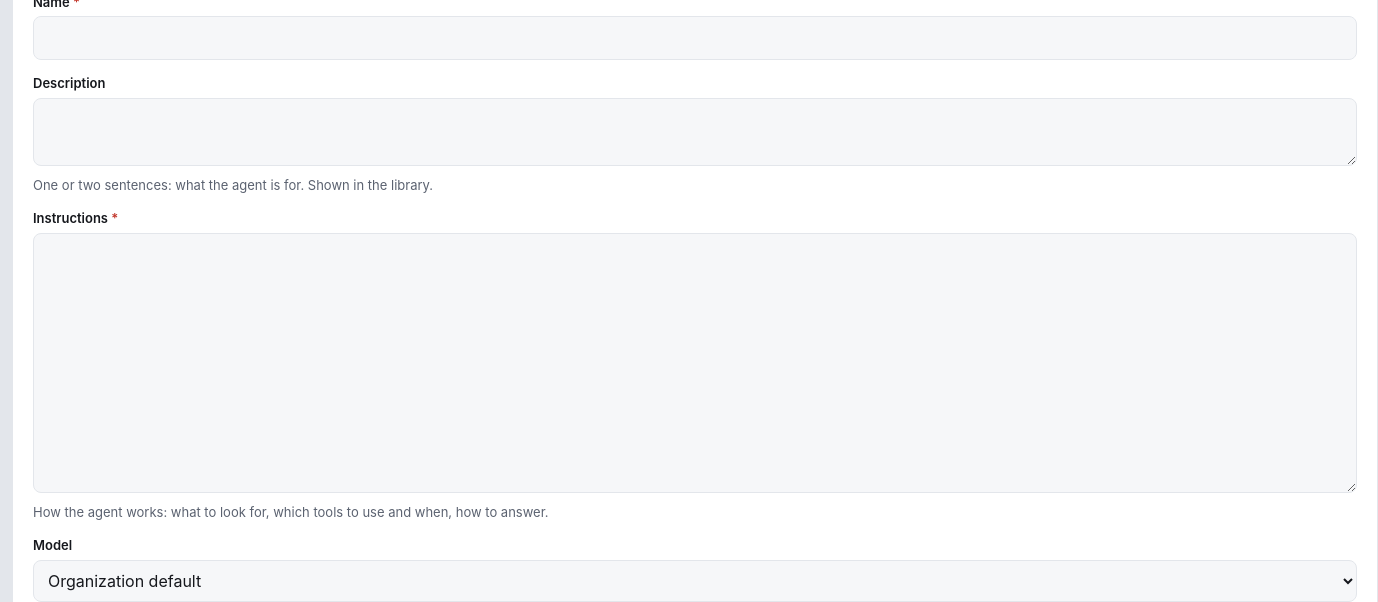
Test: AgentFormPage › says why a tool was refused, under the tools
The width and height of the screenshot is (1378, 602).
In the field labelled "Name": (695, 38) [33,16,1357,60], type "Writer"
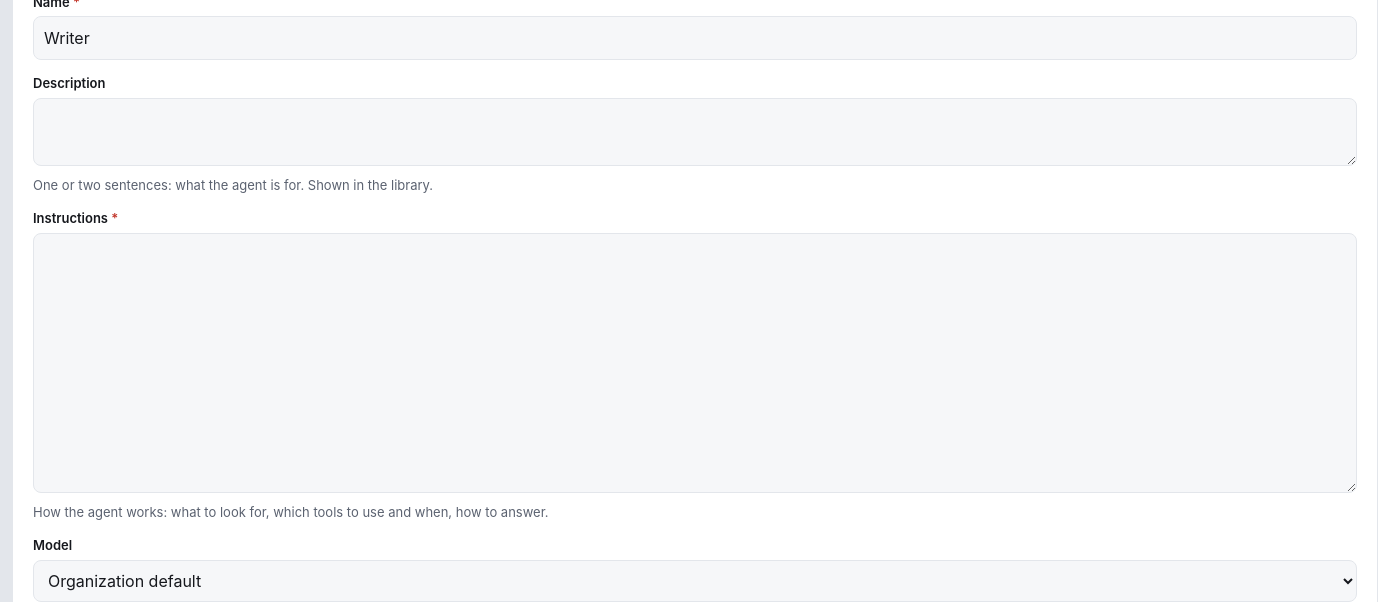
In the text box labelled "Instructions": (695, 362) [33,232,1357,492], type "Write."
(page scrolled)
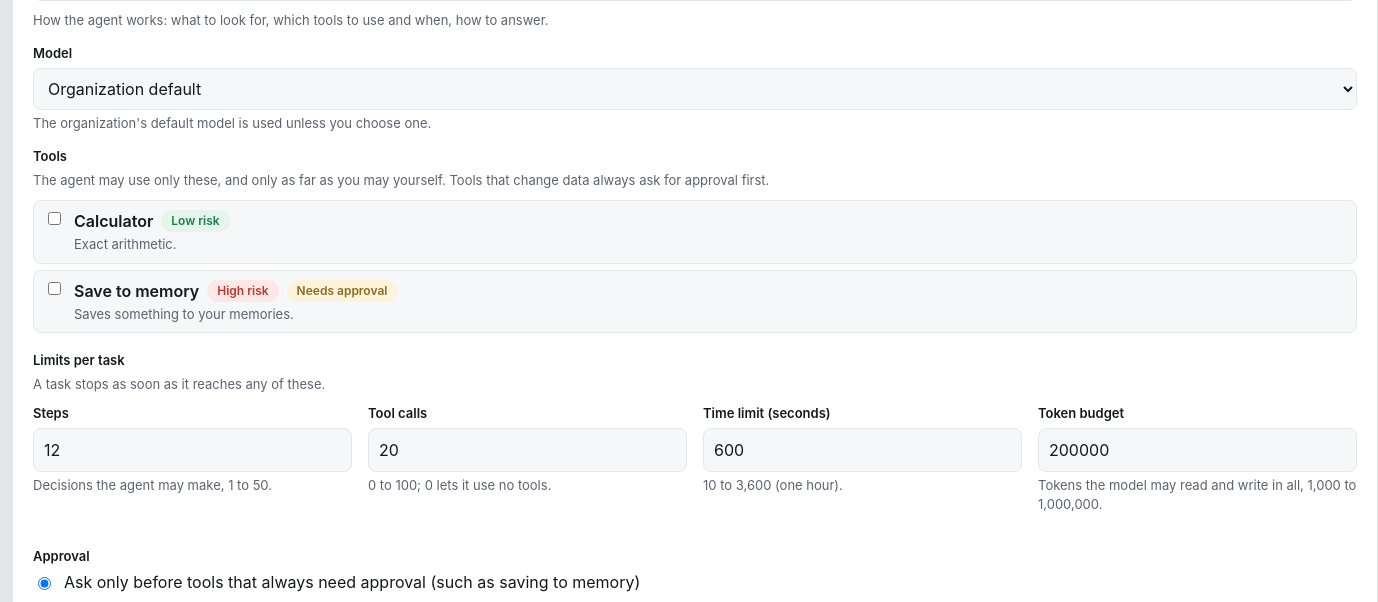
Click the checkbox labelled "Calculator Low risk Exact arithmetic.": (54, 218) [48,212,61,225]
(page scrolled)
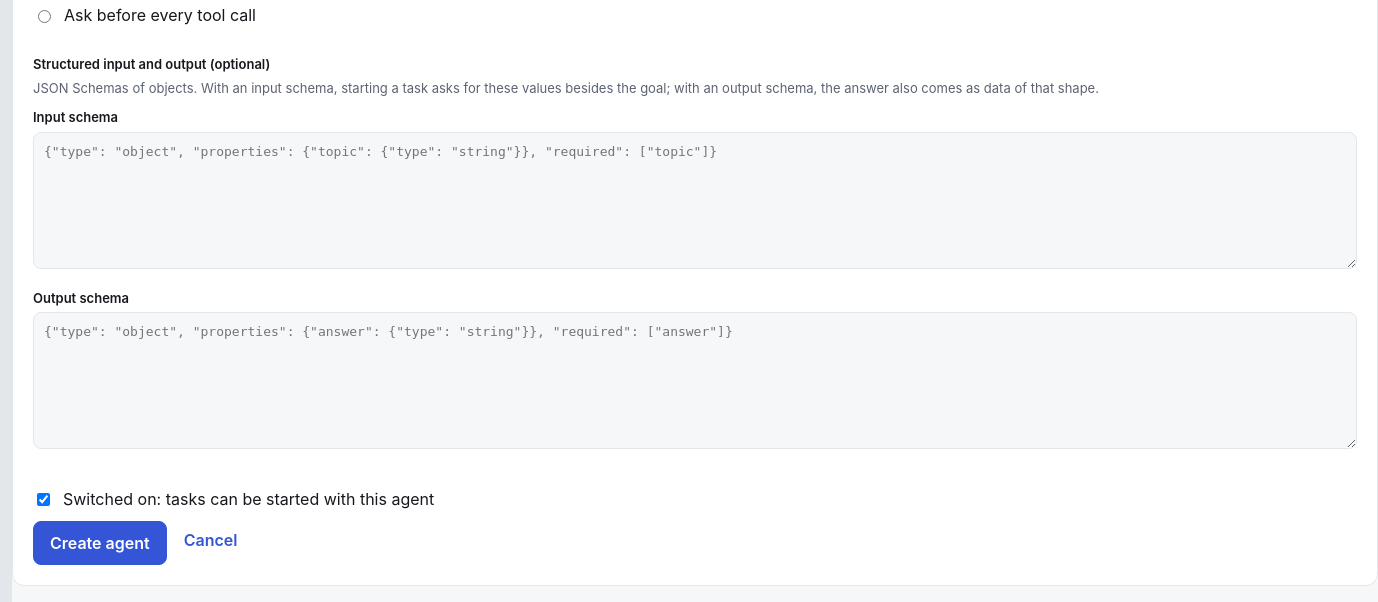
Click the button "Create agent": (100, 543) [33,521,167,565]
(page scrolled)
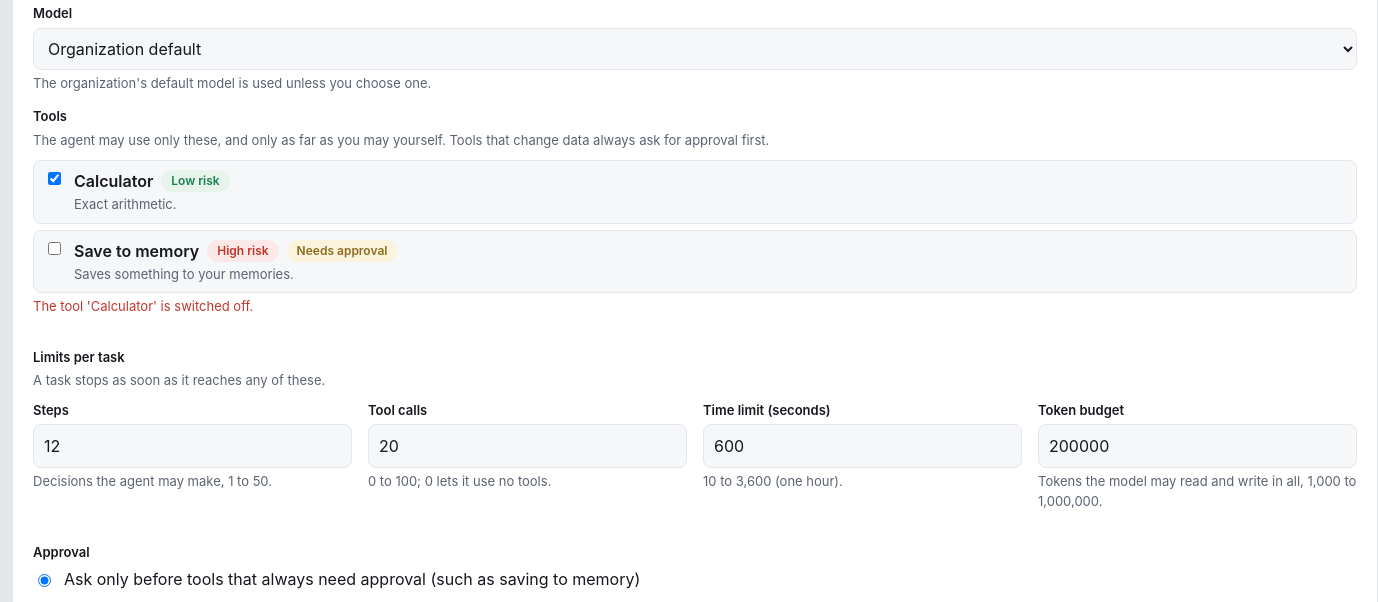
Expected: the text "The tool 'Calculator' is switched off." is shown, [33,298,253,314]
